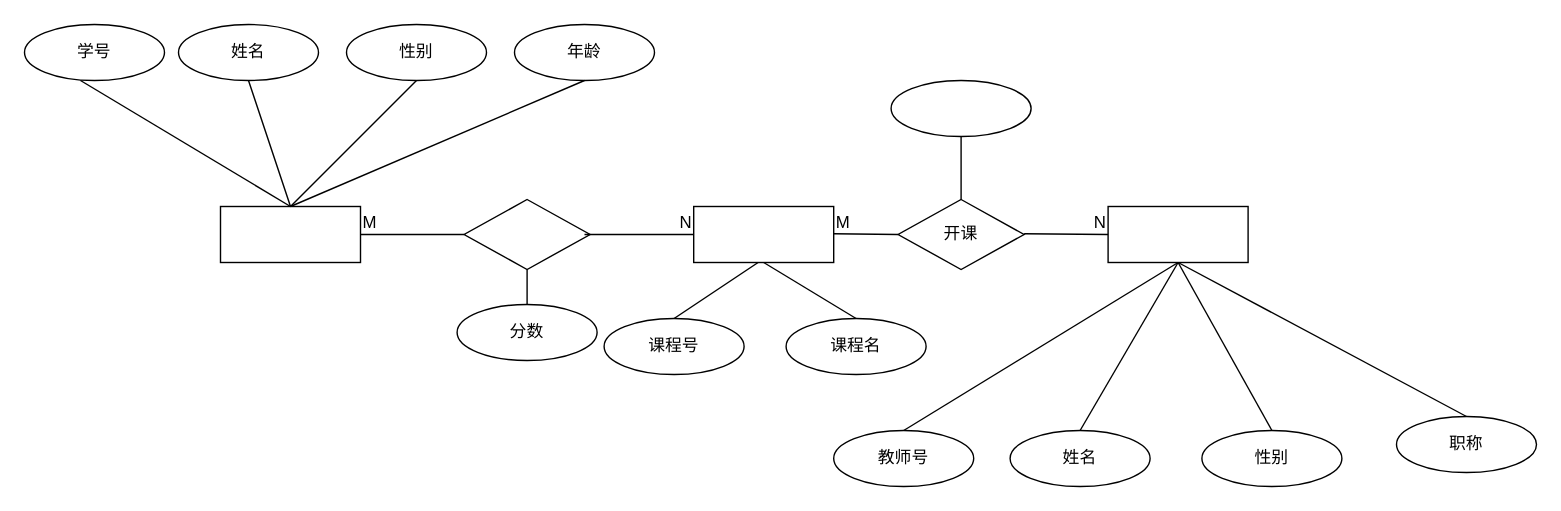
The diagram is 1561 pixels wide and 511 high, and some of its shapes have lost their labels. The centre of each missing label's shape, as x and y in pixels:
上课地点: the point at 960,107
学生: the point at 289,233
教师: the point at 1177,233
课程: the point at 763,233
选修: the point at 526,234
